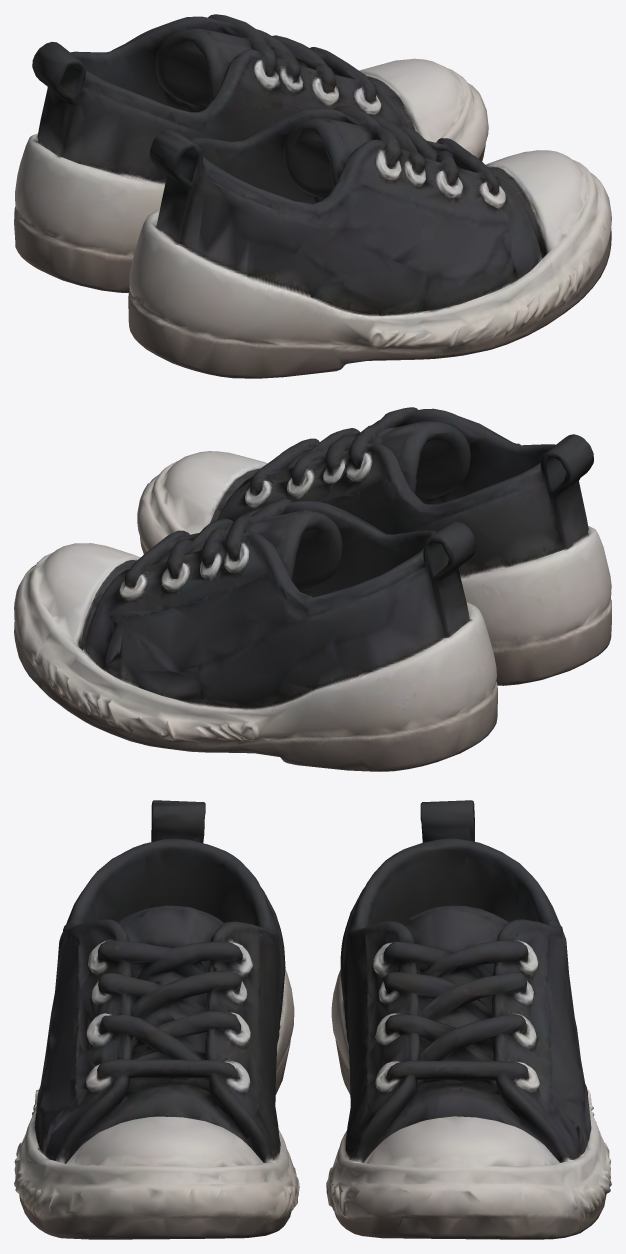
The model's file is shoes.glb.
The picture shows the model from 3 angles, top to bottom: view 1: azimuth 30°, elevation 25°; view 2: azimuth 150°, elevation 25°; view 3: azimuth 270°, elevation 25°; orthographic projection. The views are drawn at different scales.
Visible parts, largest first — view 1: tripo_node_3920b6a2-b9a7-42fb-9cc1-31fe6f402b92; view 2: tripo_node_3920b6a2-b9a7-42fb-9cc1-31fe6f402b92; view 3: tripo_node_3920b6a2-b9a7-42fb-9cc1-31fe6f402b92.
Part boxes in pixels (x1=…): tripo_node_3920b6a2-b9a7-42fb-9cc1-31fe6f402b92: x1=14, y1=14, x2=611, y2=378; tripo_node_3920b6a2-b9a7-42fb-9cc1-31fe6f402b92: x1=14, y1=407, x2=611, y2=771; tripo_node_3920b6a2-b9a7-42fb-9cc1-31fe6f402b92: x1=14, y1=800, x2=611, y2=1239.
Bounding box in the file's own units: 0.9992 × 0.4744 × 0.9963.
1 material, 1 textured.
